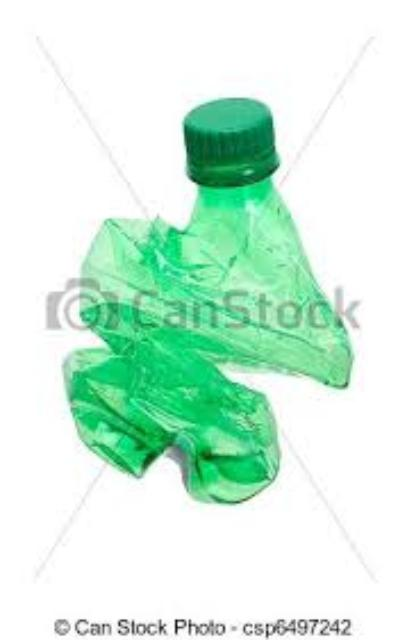plastic: (64, 96, 348, 499)
